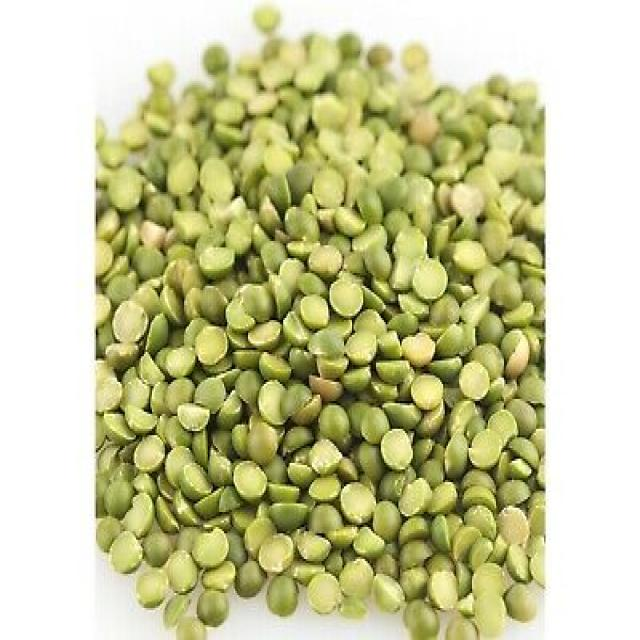Peas: (94, 3, 549, 633)
